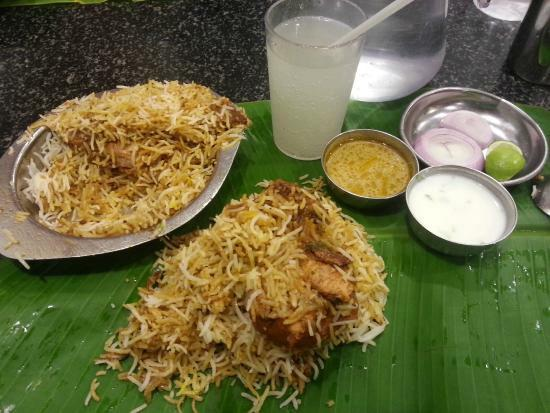Biryani: (34, 75, 391, 413)
